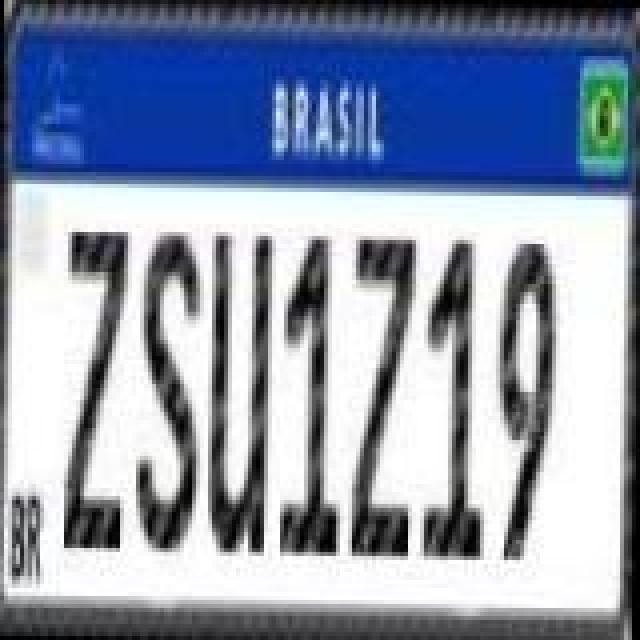1: (276, 226, 348, 562), (422, 228, 490, 564)
9: (490, 232, 558, 568)
S: (136, 224, 208, 560)
U: (206, 224, 274, 560)
Z: (64, 226, 136, 550), (350, 228, 418, 564)
